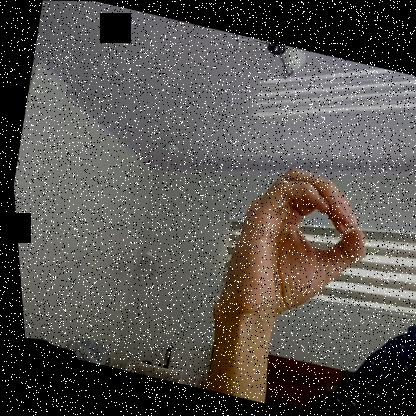O: (202, 153, 383, 339)
